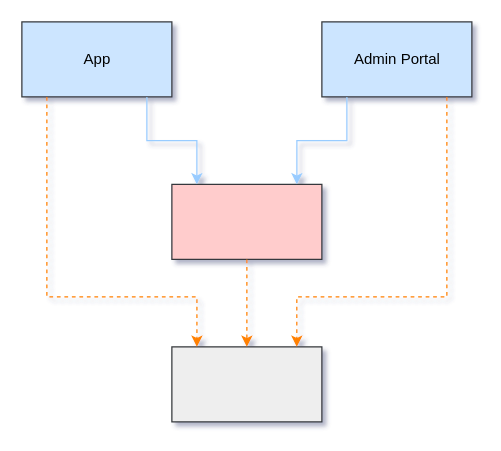
This 501x451 diagram has some shape labels left out. Here are the shapes that lost their labels. From the top down, the centre of each, then its label:
At (246,221): "API Service".
At (246,384): "Auth0".
